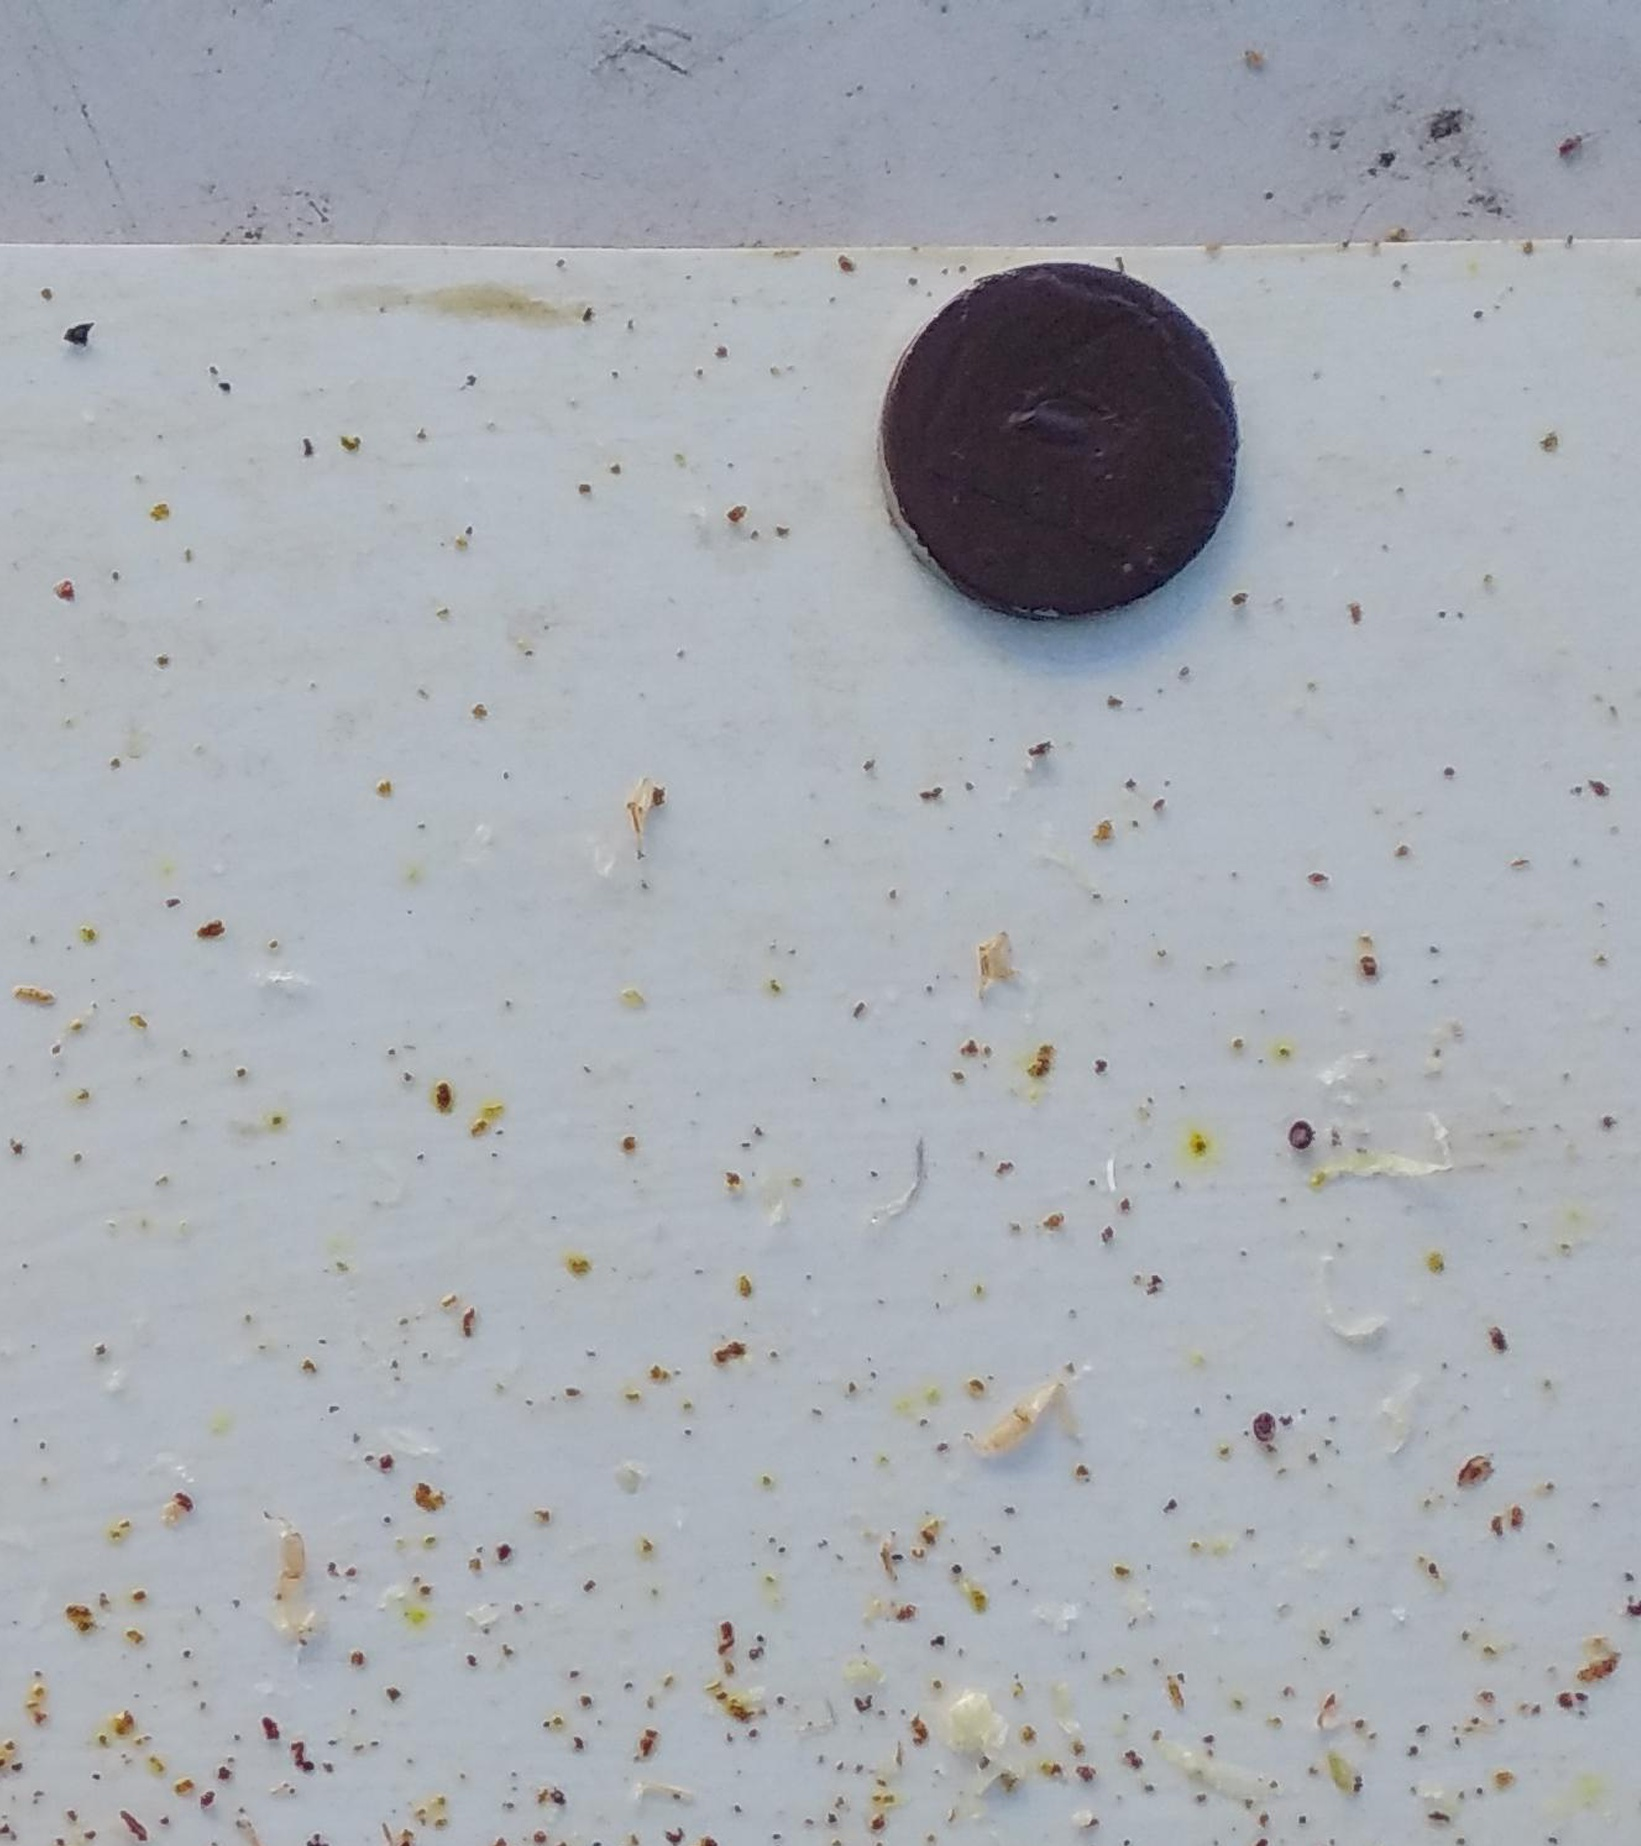Varroa: (1250, 1413, 1278, 1440), (1288, 1122, 1315, 1150)
